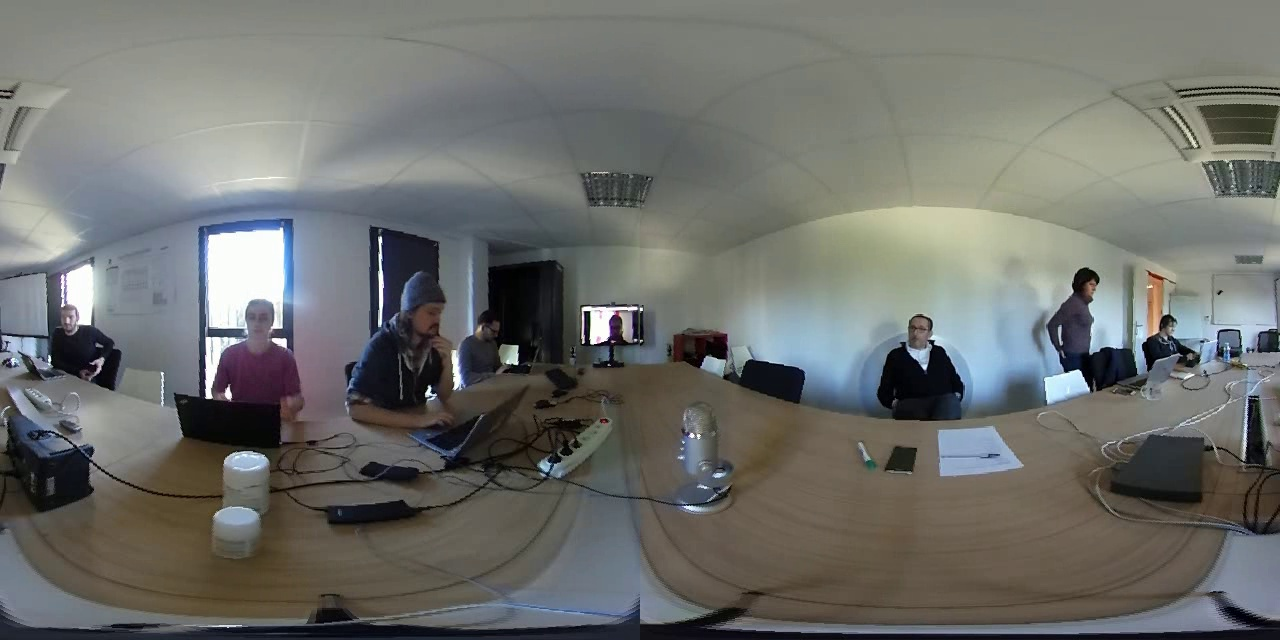person: (356, 252, 456, 412), (210, 289, 310, 415), (871, 301, 979, 415), (1028, 252, 1120, 377), (34, 286, 108, 382), (467, 292, 513, 377), (1138, 304, 1192, 358), (579, 300, 637, 343)
